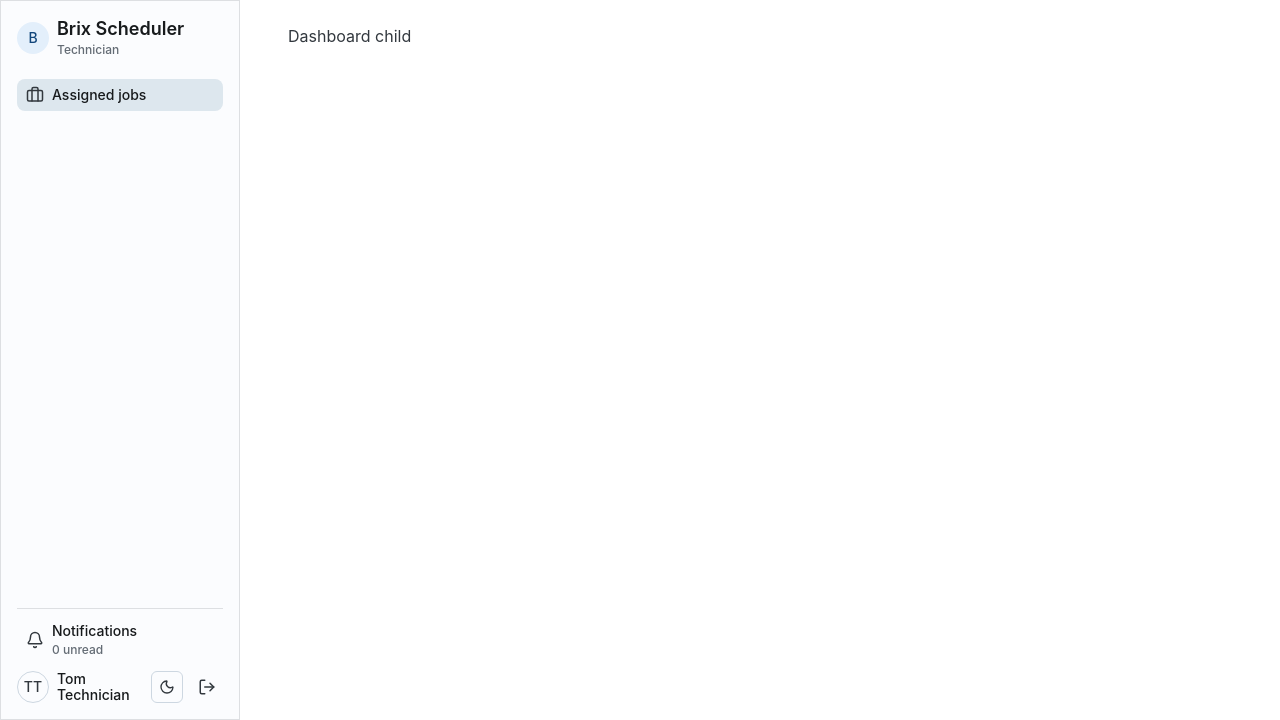
Test: app shell › Theme controls switch between light and dark modes
Click the button named "Toggle dark mode".
click(167, 687)  # box [151, 671, 183, 703]
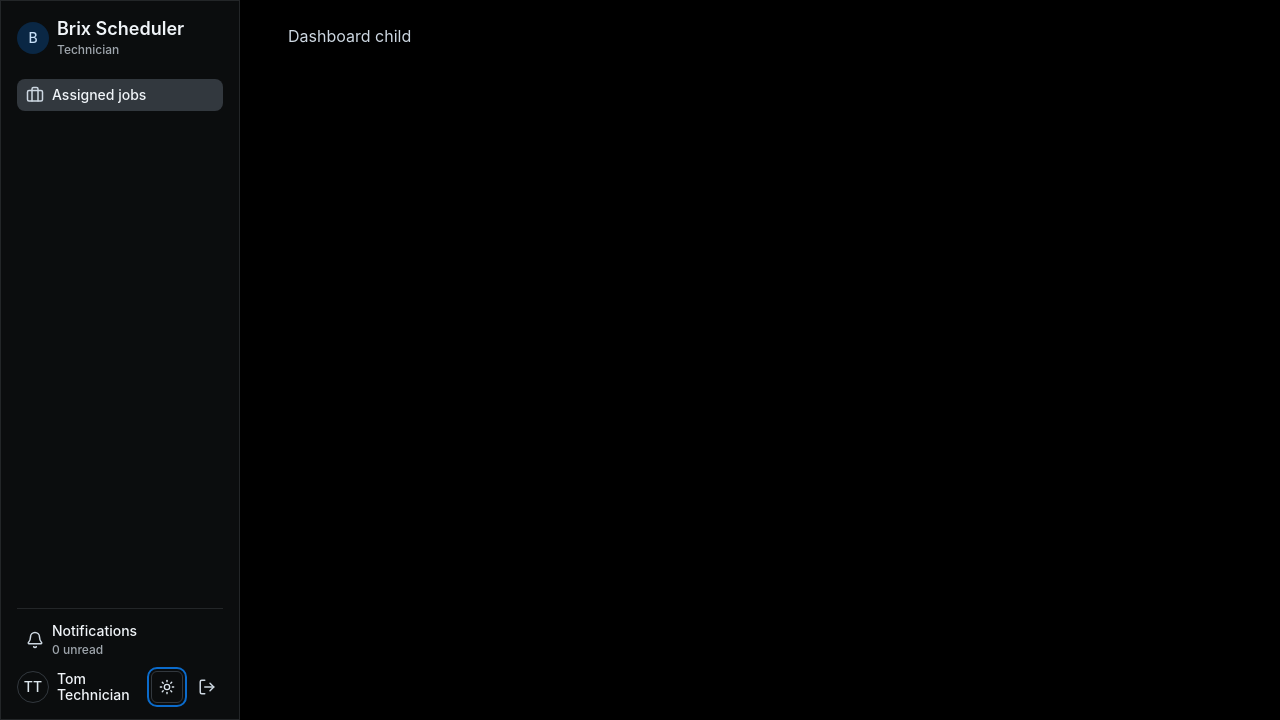
Result: the button named "Toggle light mode" is shown
Click the button named "Toggle light mode".
click(167, 687)  # box [151, 671, 183, 703]
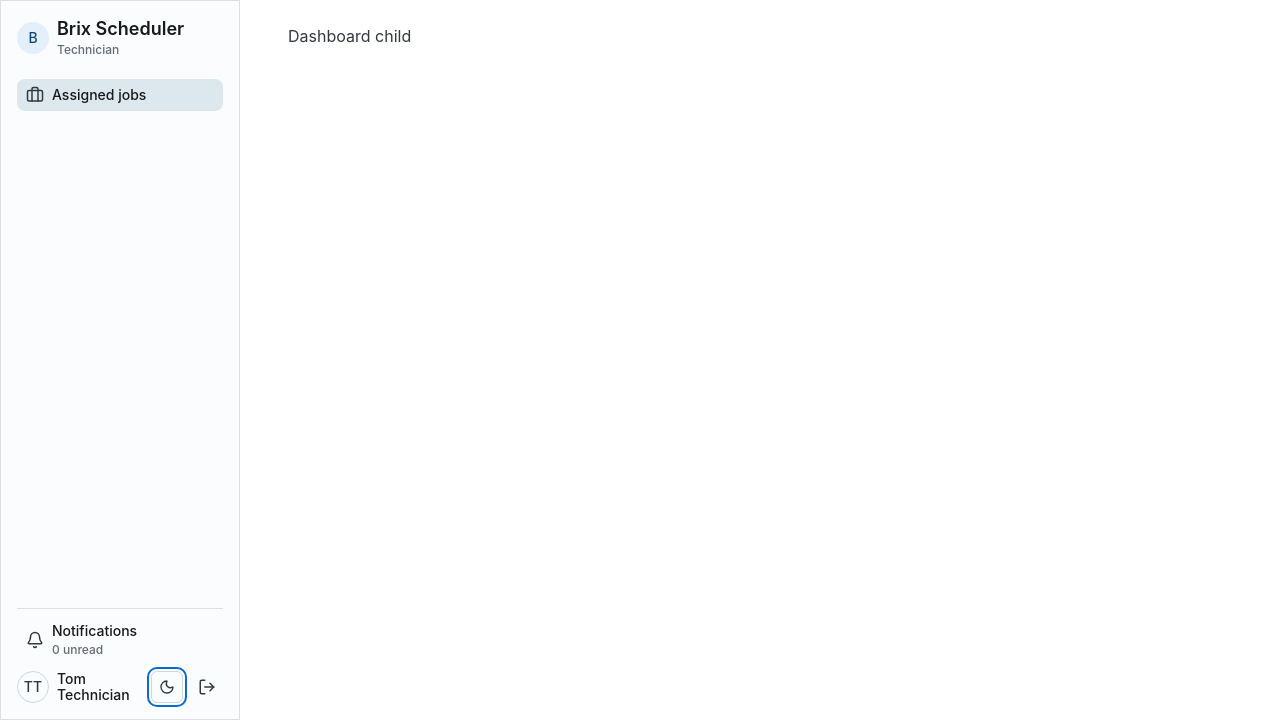
Result: the button named "Toggle dark mode" is shown at [151, 671, 183, 703]
